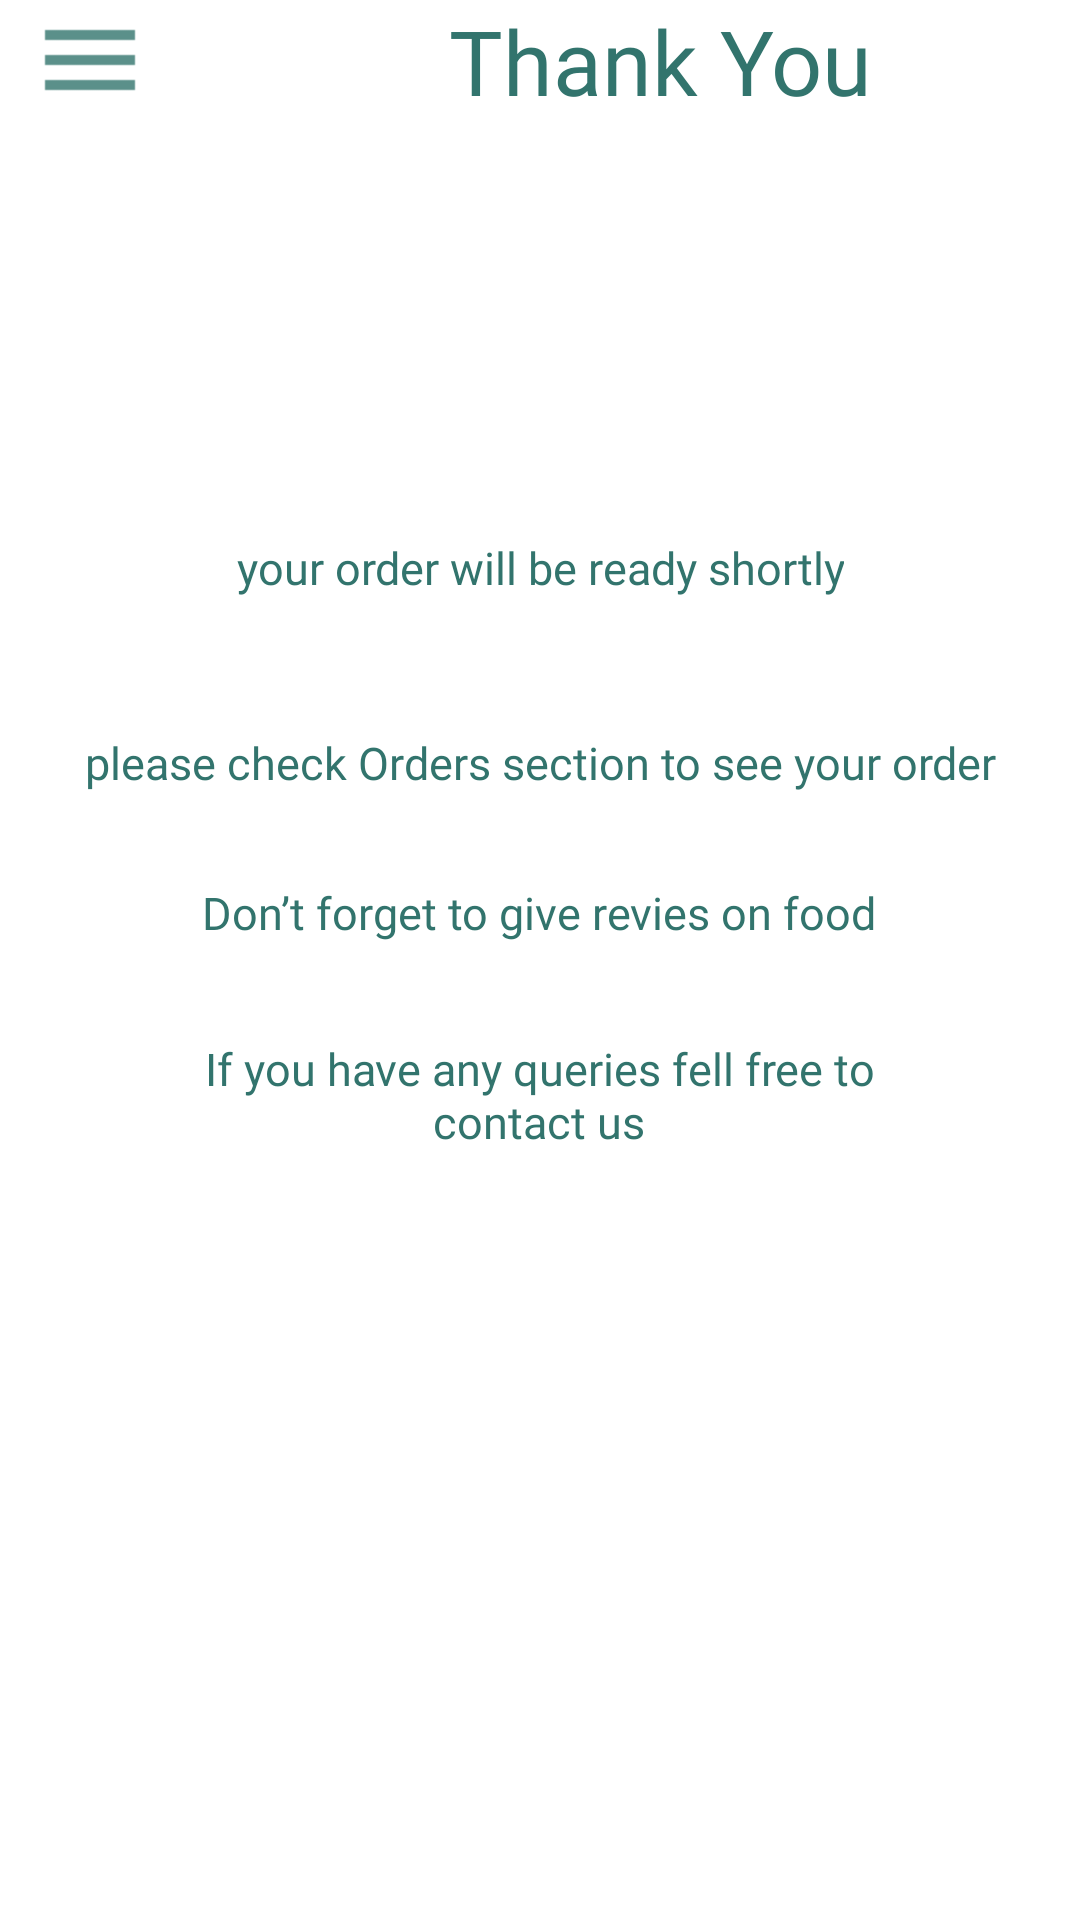

Icon click points for this 1080*1920 phone screenshot, format point (x, y):
Menu: point (90, 60)
